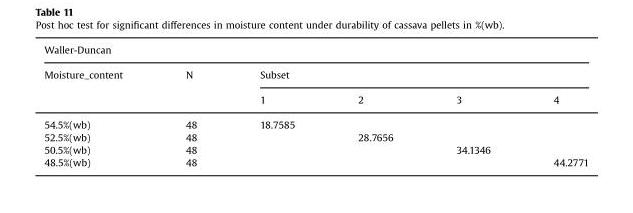table: (43, 43, 588, 167)
table column: (43, 43, 153, 167), (325, 43, 424, 167), (227, 43, 325, 167), (424, 43, 521, 167), (153, 43, 227, 167), (521, 43, 588, 167)
table column header: (43, 43, 588, 111)
table row: (43, 61, 588, 86), (43, 86, 588, 111), (43, 111, 588, 130), (43, 43, 588, 61), (43, 130, 588, 143), (43, 143, 588, 155), (43, 155, 588, 167)
table spanning cell: (43, 43, 588, 61), (227, 61, 588, 86), (43, 61, 153, 111), (153, 61, 227, 111)
